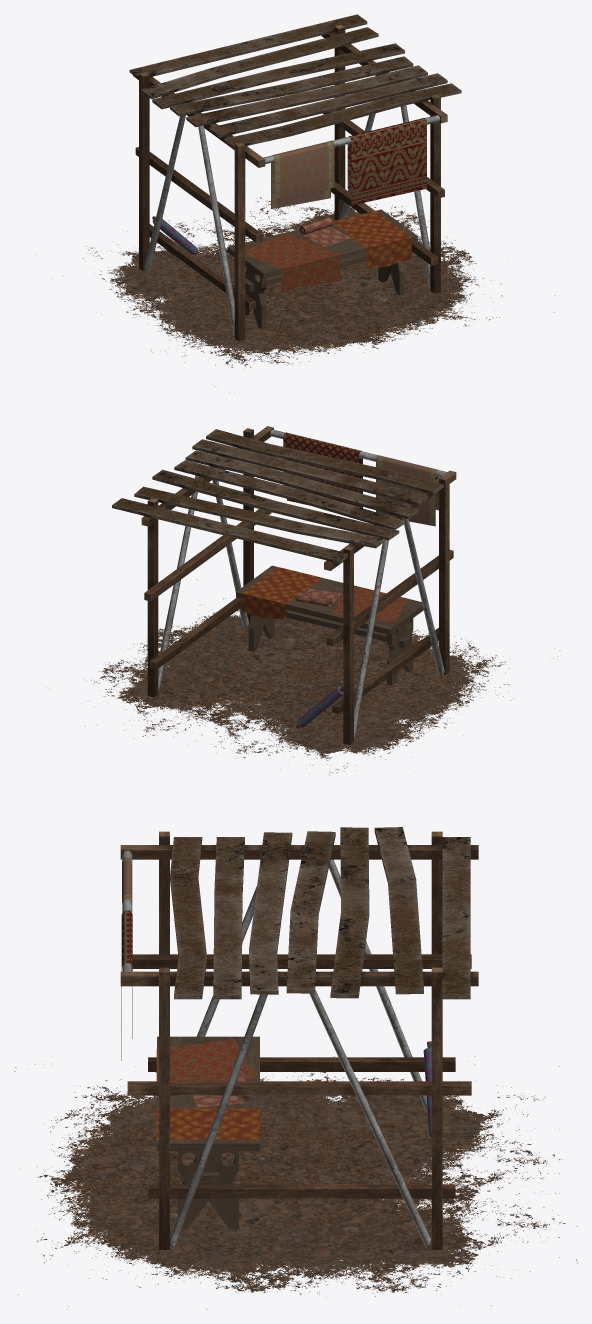
The model's file is medieval_market_stall_asset_24.obj.
3 renders of one model, top to bottom at view 1: azimuth 30°, elevation 25°; view 2: azimuth 150°, elevation 25°; view 3: azimuth 270°, elevation 25°, orthographic. The views are drawn at different scales.
Visible parts, largest first — view 1: obj3, obj1, obj4, obj2; view 2: obj3, obj1, obj4; view 3: obj3, obj1, obj4.
Part boxes in pixels (<box>): obj3: <box>129,14,461,341</box>; obj1: <box>36,197,554,392</box>; obj4: <box>245,118,426,293</box>; obj2: <box>303,226,350,246</box>; obj3: <box>112,426,456,744</box>; obj1: <box>85,579,560,775</box>; obj4: <box>242,432,439,621</box>; obj3: <box>120,827,478,1249</box>; obj1: <box>14,1056,577,1309</box>; obj4: <box>121,857,260,1145</box>.
Size of the model in its own units: 586 by 298 by 549.
3 materials, 3 textured.
